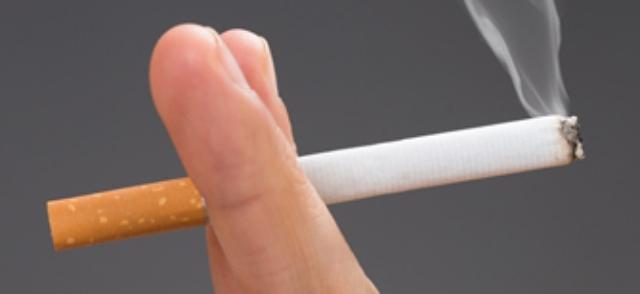Smoking: (44, 114, 588, 254)
